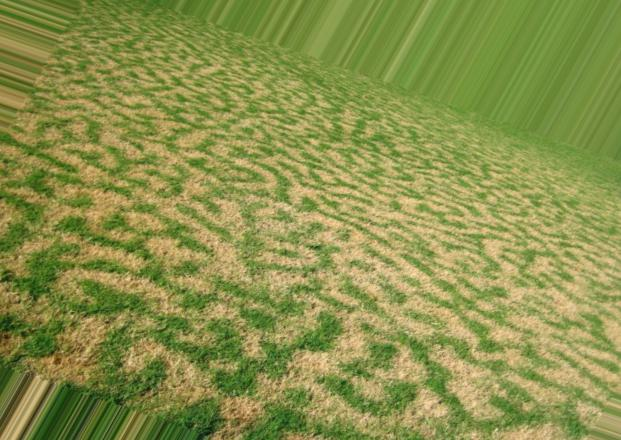patch: (70, 54, 243, 315), (247, 137, 412, 324), (446, 209, 571, 351), (403, 356, 552, 430), (83, 319, 210, 391), (269, 336, 384, 394), (257, 75, 326, 129)
